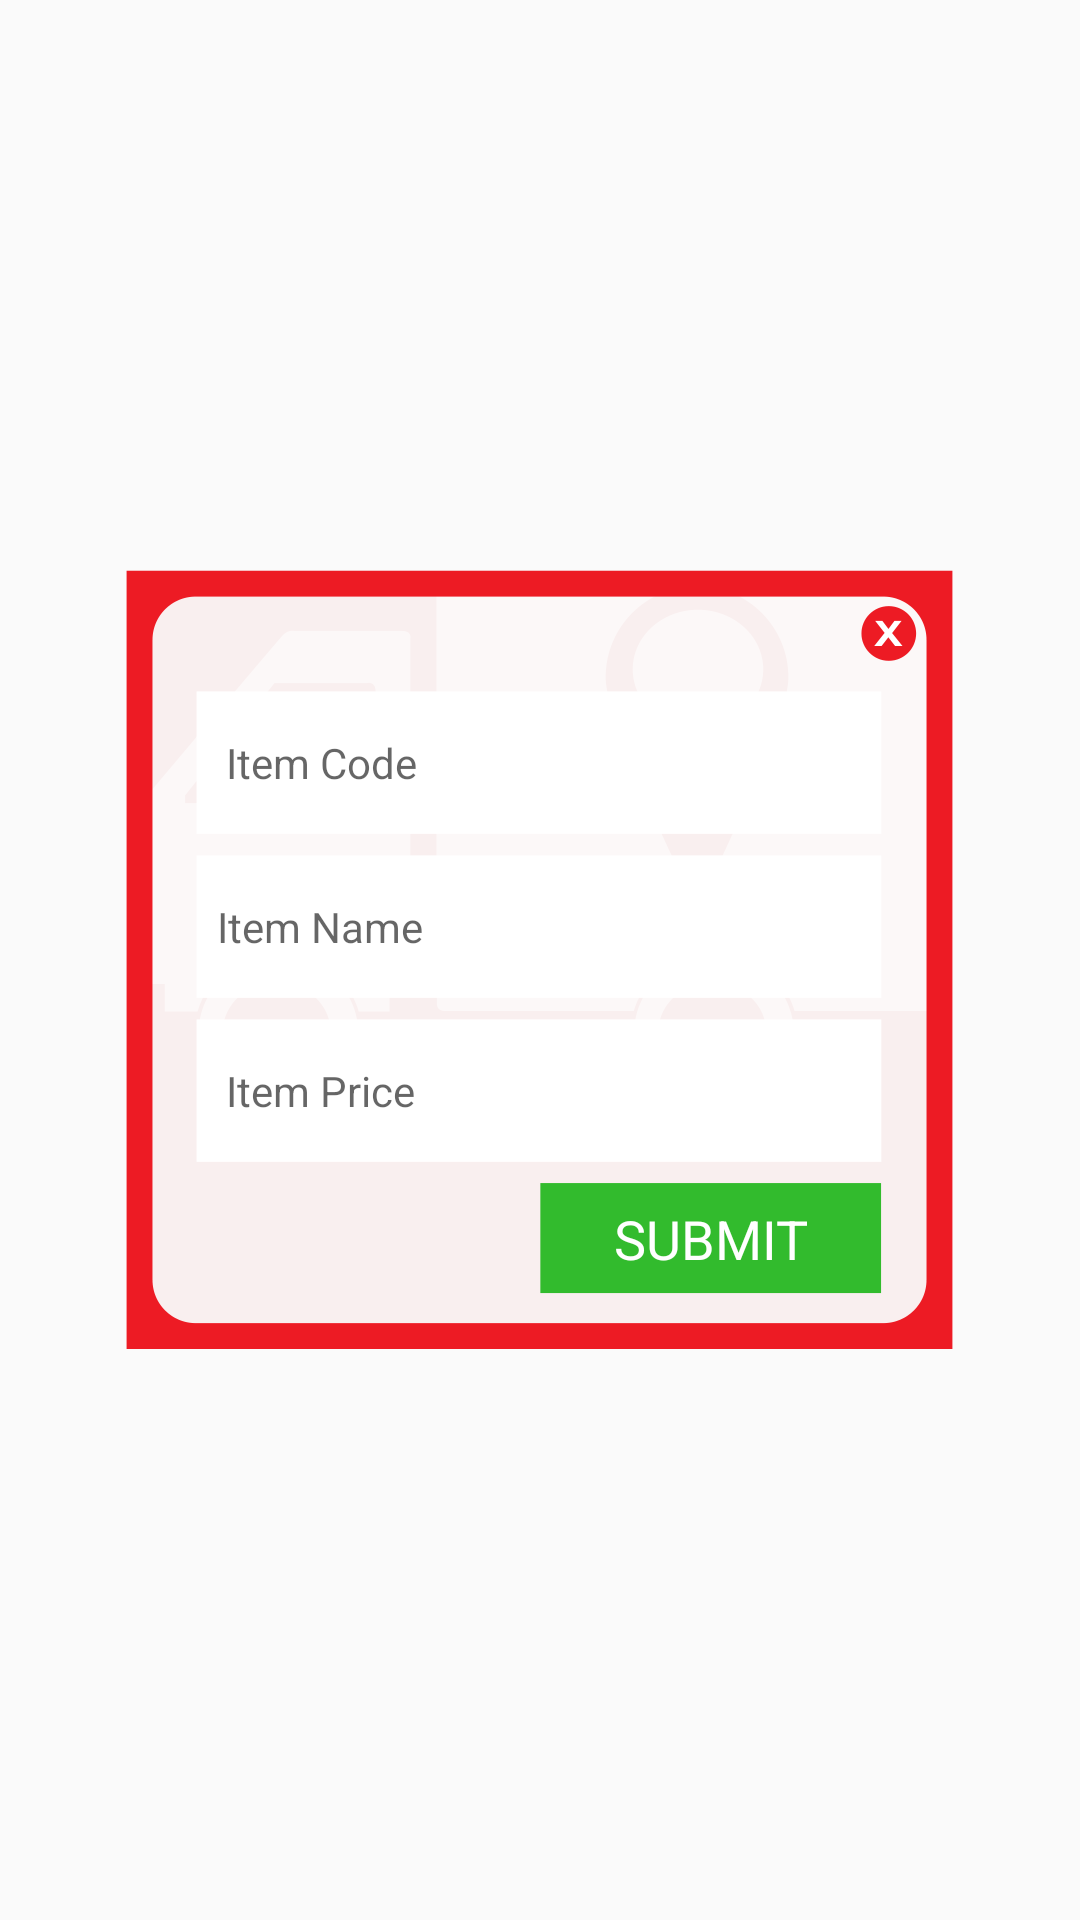

Named icons in this screenshot (1080*1920) and their centers, (x=x, y=y):
cross: (x=889, y=633)
